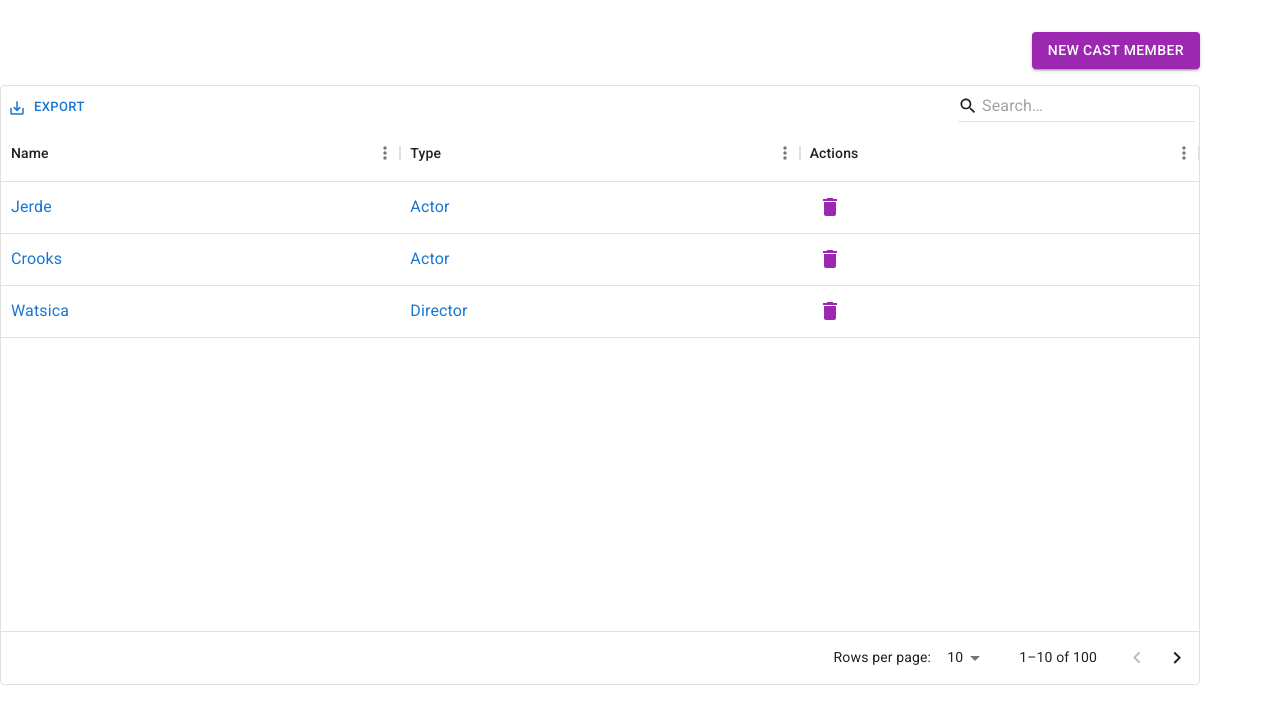
ListCastMembers › should handle delete cast member success
The image size is (1280, 720).
Expected: the text "Jerde" is shown, [11, 195, 52, 219]
Click the button with test id "delete-button" in the row of "Jerde": click(830, 207) [810, 187, 850, 227]
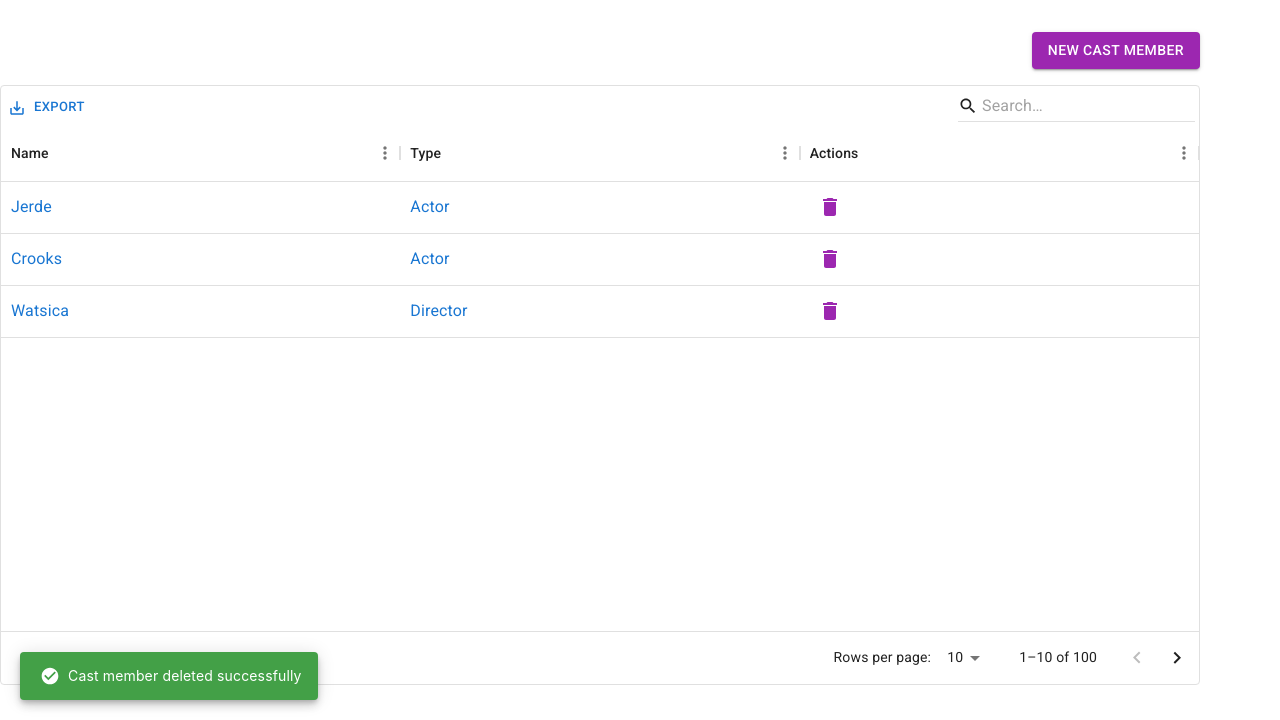
Now the text "Cast member deleted successfully" is shown, box [40, 666, 302, 686]
